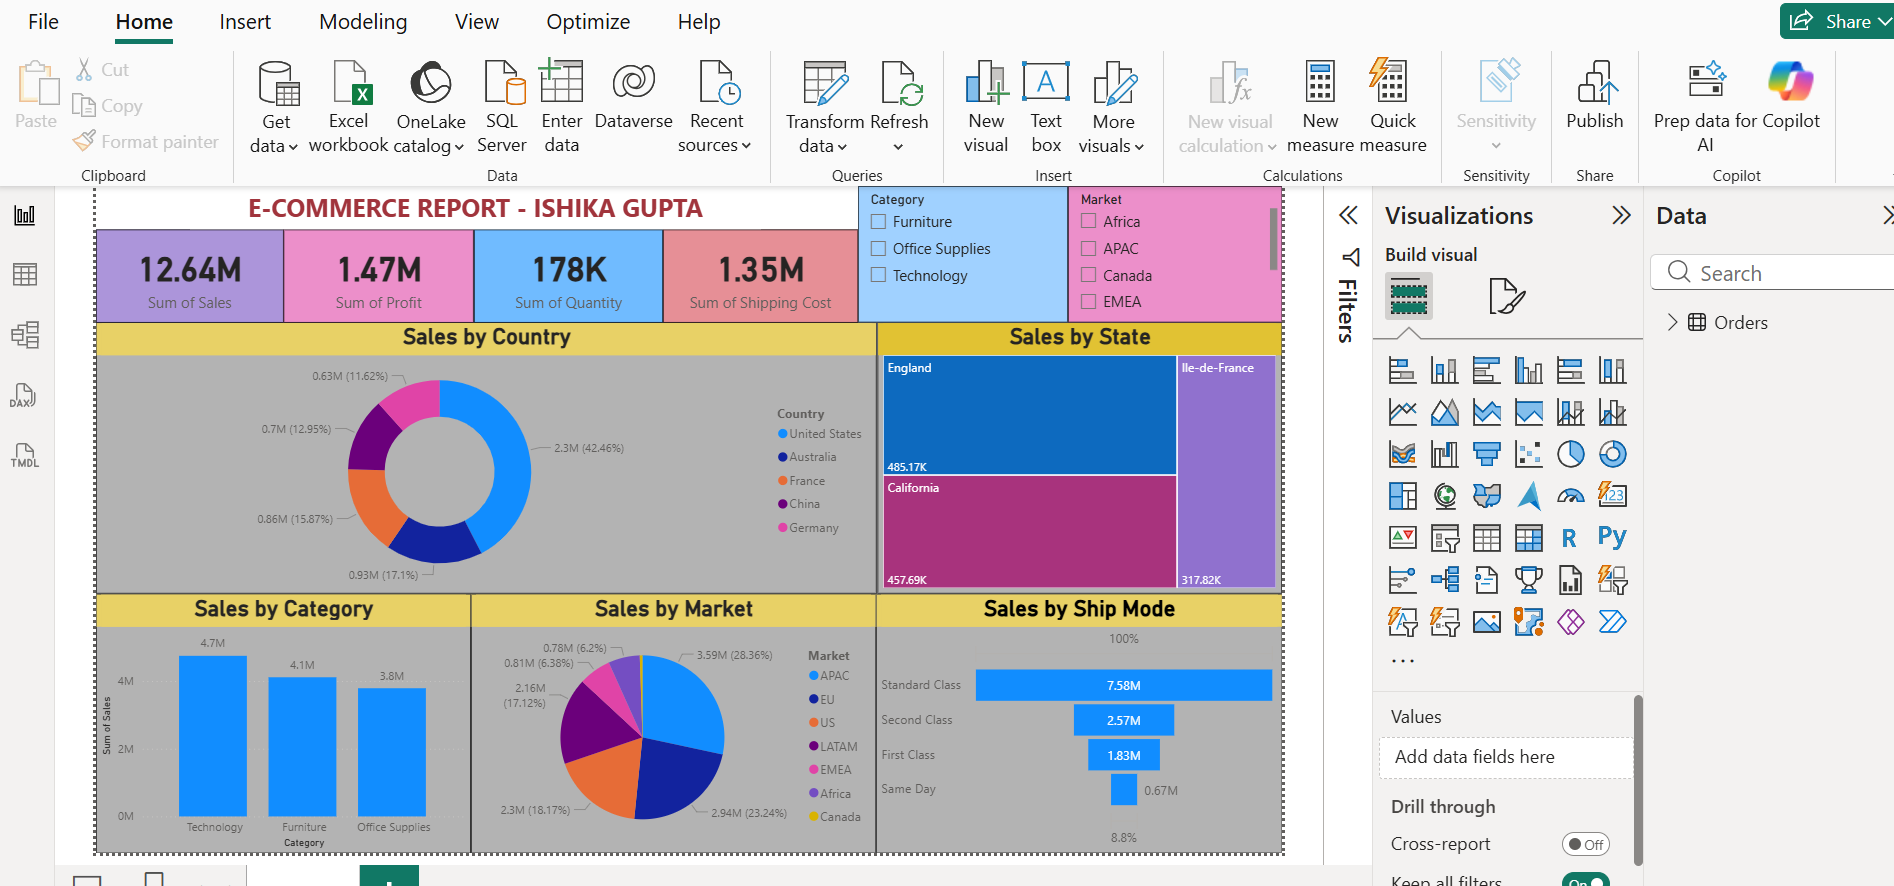

What the dashboard file says about the page in this screenshot:
{"tool":"powerbi","page":{"name":"Page 1","canvas":[1280,720],"ordinal":0},"visuals":[{"type":"columnChart","title":" Sales by Category","fields":{"Category":["Orders.Category"],"Y":["Sum(Orders.Sales)"]},"box":[0,440.4,404.8,280.1],"z":0},{"type":"pieChart","title":"  Sales by Market","fields":{"Category":["Orders.Market"],"Y":["Sum(Orders.Sales)"]},"box":[404.8,440.4,437.2,280.1],"z":1000},{"type":"funnel","title":"  Sales by Ship Mode","fields":{"Category":["Orders.Ship Mode"],"Y":["Sum(Orders.Sales)"]},"box":[842,440.4,438.8,280.1],"z":2000},{"type":"donutChart","title":" Sales by Country","fields":{"Category":["Orders.Country"],"Y":["Sum(Orders.Sales)"]},"box":[0,147.4,842.8,292.9],"z":3000},{"type":"treemap","title":" Sales by State","fields":{"Group":["Orders.State"],"Values":["Sum(Orders.Sales)"]},"box":[842.8,147.4,436.5,292.9],"z":4000},{"type":"card","fields":{"Values":["Sum(Orders.Sales)"]},"box":[0,47,202.4,100.4],"z":5000},{"type":"card","fields":{"Values":["Sum(Orders.Profit)"]},"box":[202.4,47,205.6,100.4],"z":6000},{"type":"card","fields":{"Values":["Sum(Orders.Quantity)"]},"box":[408,47,204,100.4],"z":7000},{"type":"card","fields":{"Values":["Sum(Orders.Shipping Cost)"]},"box":[612.1,47,210.5,100.4],"z":8000},{"type":"slicer","fields":{"Values":["Orders.Category"]},"box":[822.6,0,226.7,147.3],"z":9000},{"type":"slicer","fields":{"Values":["Orders.Market"]},"box":[1049.3,0,231.5,147.3],"z":10000},{"type":"textbox","box":[102,0,615.3,47],"z":11000}]}

Visuals, with their boxes on the page's 1280x720 design canvas (x1, y1, x2, y2). These are canvas units, not pixel positions in the 1894x886 screenshot, which may show the page scaled, cropped or inside an application window:
" Sales by Category" columnChart: l=0, t=440, r=405, b=720
"  Sales by Market" pieChart: l=405, t=440, r=842, b=720
"  Sales by Ship Mode" funnel: l=842, t=440, r=1281, b=720
" Sales by Country" donutChart: l=0, t=147, r=843, b=440
" Sales by State" treemap: l=843, t=147, r=1279, b=440
card - Sum(Orders.Sales): l=0, t=47, r=202, b=147
card - Sum(Orders.Profit): l=202, t=47, r=408, b=147
card - Sum(Orders.Quantity): l=408, t=47, r=612, b=147
card - Sum(Orders.Shipping Cost): l=612, t=47, r=823, b=147
slicer - Orders.Category: l=823, t=0, r=1049, b=147
slicer - Orders.Market: l=1049, t=0, r=1281, b=147
textbox: l=102, t=0, r=717, b=47
